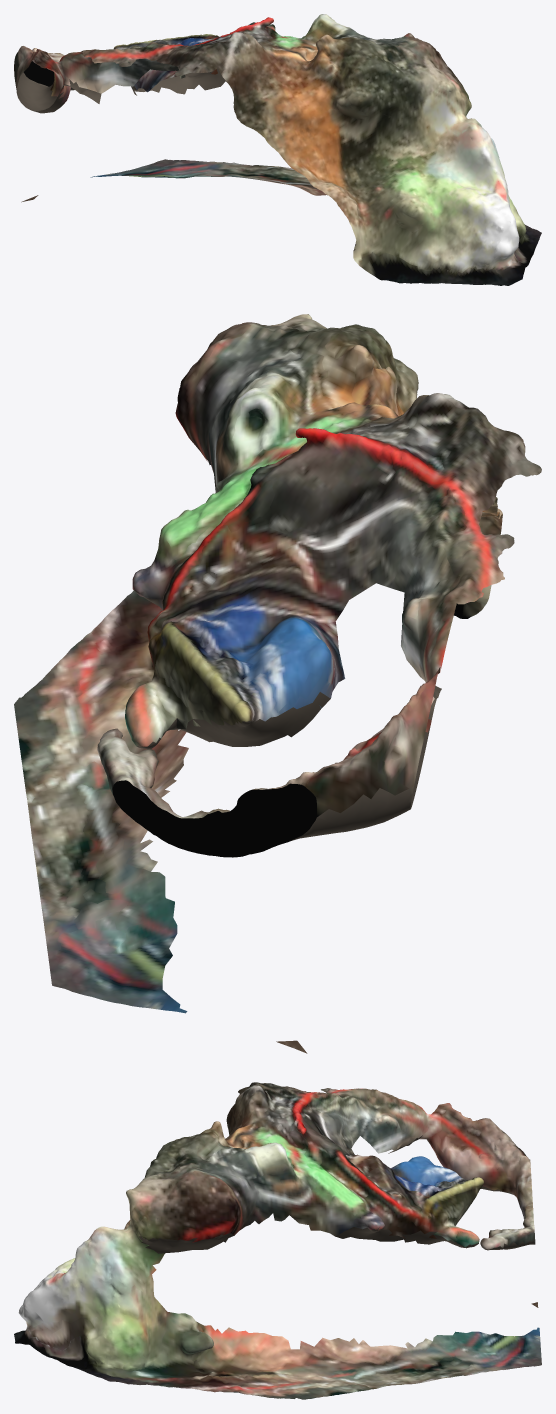
The model's file is asset.gltf.
The picture shows the model from 3 angles, top to bottom: view 1: azimuth 30°, elevation 25°; view 2: azimuth 150°, elevation 25°; view 3: azimuth 270°, elevation 25°; orthographic projection. The views are drawn at different scales.
Parts seen in each view (by area): view 1: model.002; view 2: model.002; view 3: model.002.
Boxes of the visible parts, box(x1,y1,x2,y2) form: model.002: box(14, 14, 541, 285); model.002: box(14, 314, 541, 1053); model.002: box(14, 1082, 541, 1399).
Bounding box in the file's own units: 10.68 × 8.05 × 15.52.
Materials: 1 (1 with a texture image).
